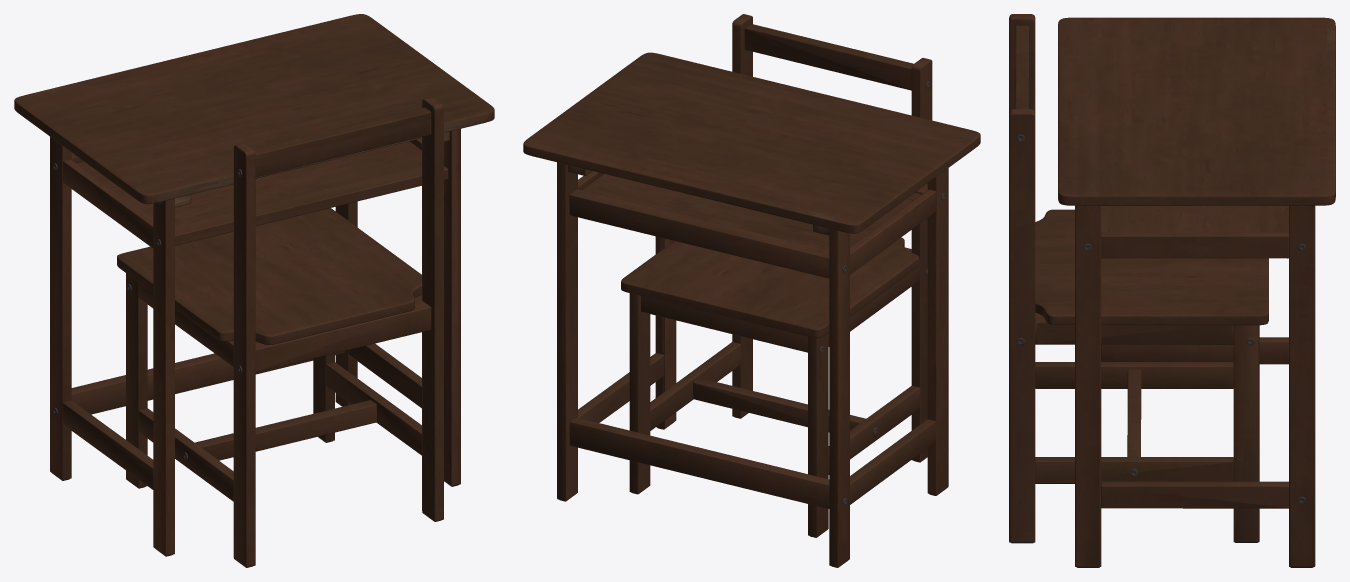
Rendered from kids_table_abo_B07YBHVN3Y.glb.
The picture shows the model from 3 angles, left to right: view 1: azimuth 30°, elevation 25°; view 2: azimuth 150°, elevation 25°; view 3: azimuth 270°, elevation 25°; orthographic projection. The views are drawn at different scales.
Parts seen in each view (by area): view 1: RootNode; view 2: RootNode; view 3: RootNode.
Part boxes in pixels (x1,y1,x2,y2): RootNode: [14, 14, 494, 567]; RootNode: [523, 14, 980, 567]; RootNode: [1009, 14, 1335, 567].
Size of the model in its own units: 0.5993 by 0.6732 by 0.4629.
Materials: 1 (1 with a texture image).
